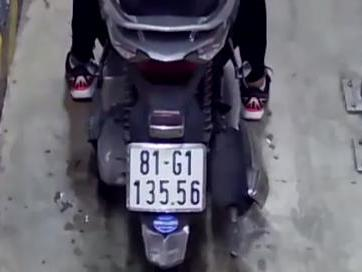num_plate: (125, 141, 209, 212)
